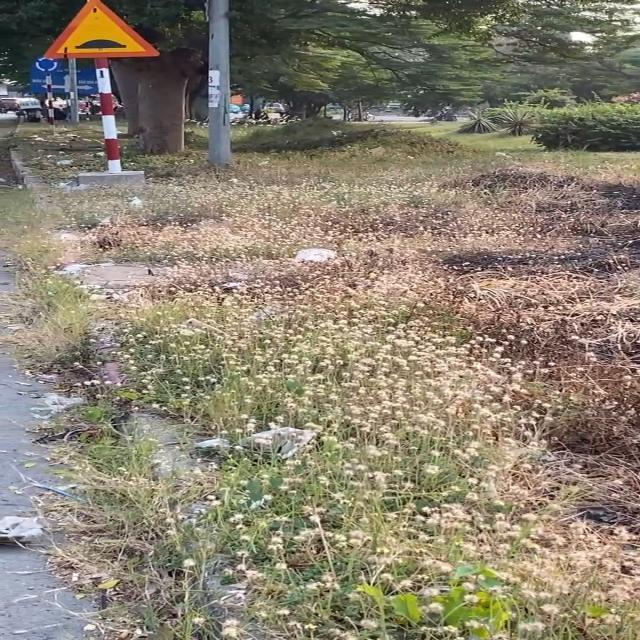221-duong-go-ghe: (42, 1, 162, 59)
303-noi-giao-nhau-chay-theo-vong-xuyen: (34, 56, 60, 74)
